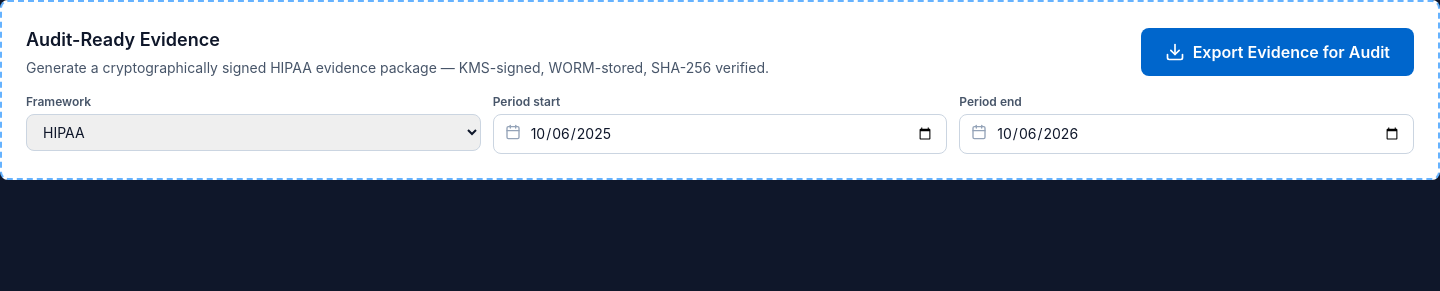
ExportEvidence › shows error state when generateEvidencePackage throws
Click the button "Export Evidence for Audit": point(1277, 52) x1=1141 y1=28 x2=1414 y2=76
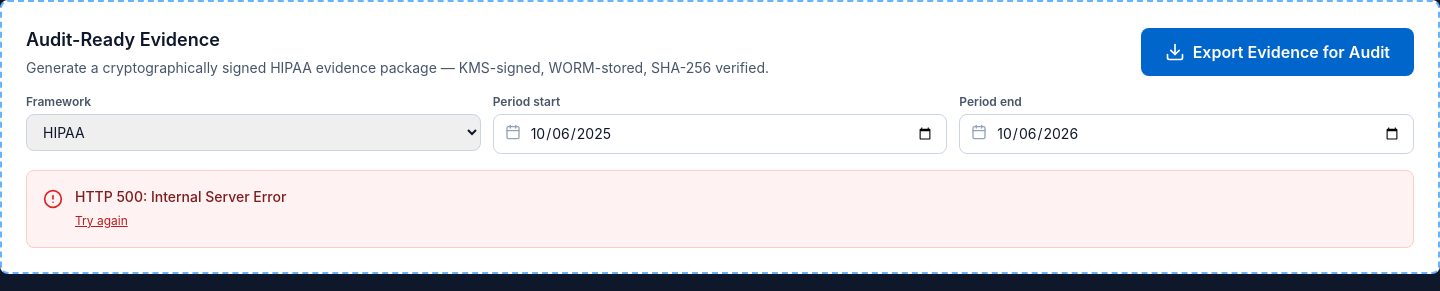
Check: the text "HTTP 500: Internal Server Error" is shown, box x1=75 y1=187 x2=286 y2=207
